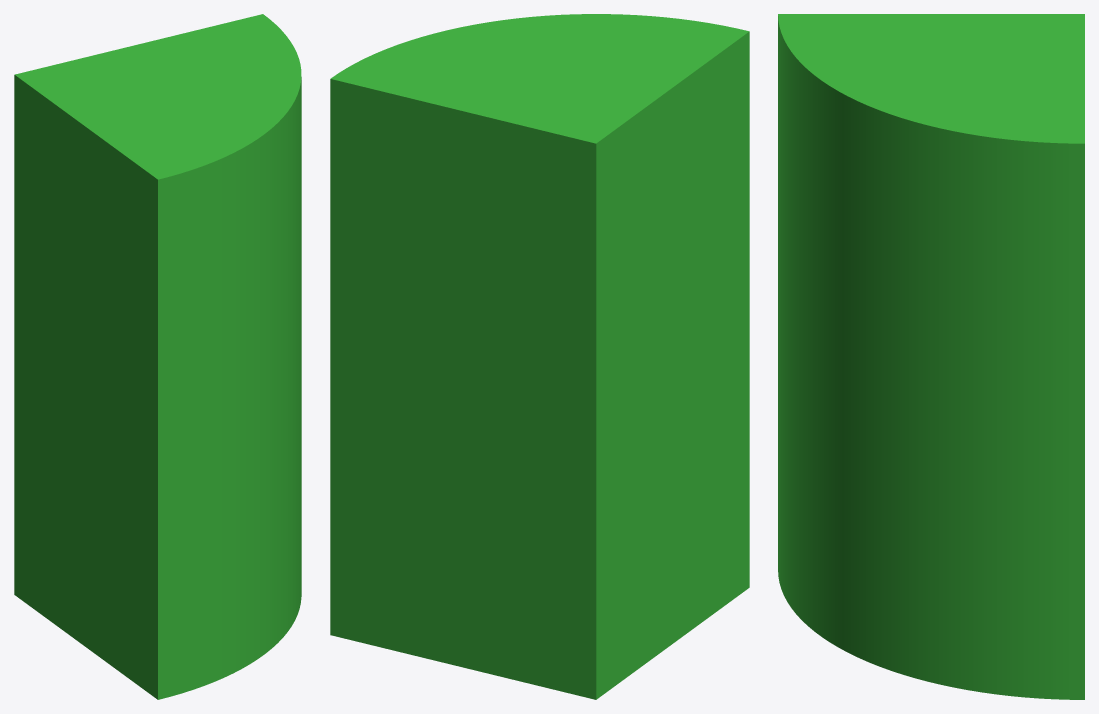
The model's file is SM_QuarterCylinder_8c7c560cd3.glb.
The picture shows the model from 3 angles, left to right: view 1: azimuth 30°, elevation 25°; view 2: azimuth 150°, elevation 25°; view 3: azimuth 270°, elevation 25°; orthographic projection. The views are drawn at different scales.
Visible parts, largest first — view 1: SM_Cylinder2; view 2: SM_Cylinder2; view 3: SM_Cylinder2.
Part boxes in pixels (box(x1,y1,x2,y2)): SM_Cylinder2: box(14, 14, 301, 699); SM_Cylinder2: box(330, 14, 749, 699); SM_Cylinder2: box(778, 14, 1084, 699).
Bounding box in the file's own units: 0.5 × 1 × 0.5.
